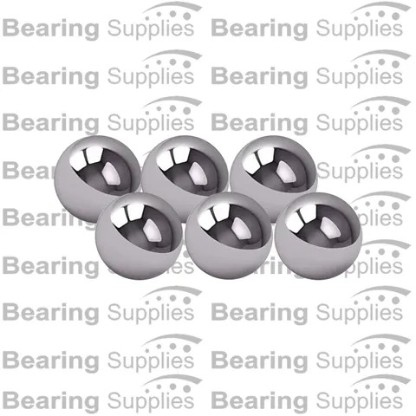ironball: (228, 133, 318, 222), (273, 190, 362, 279), (52, 133, 141, 222), (183, 190, 272, 279), (93, 191, 182, 279), (140, 134, 228, 222)
